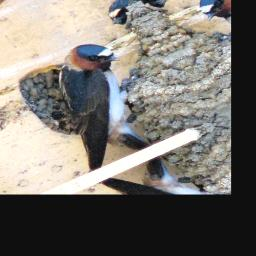Swallow: (2, 35, 181, 173)
